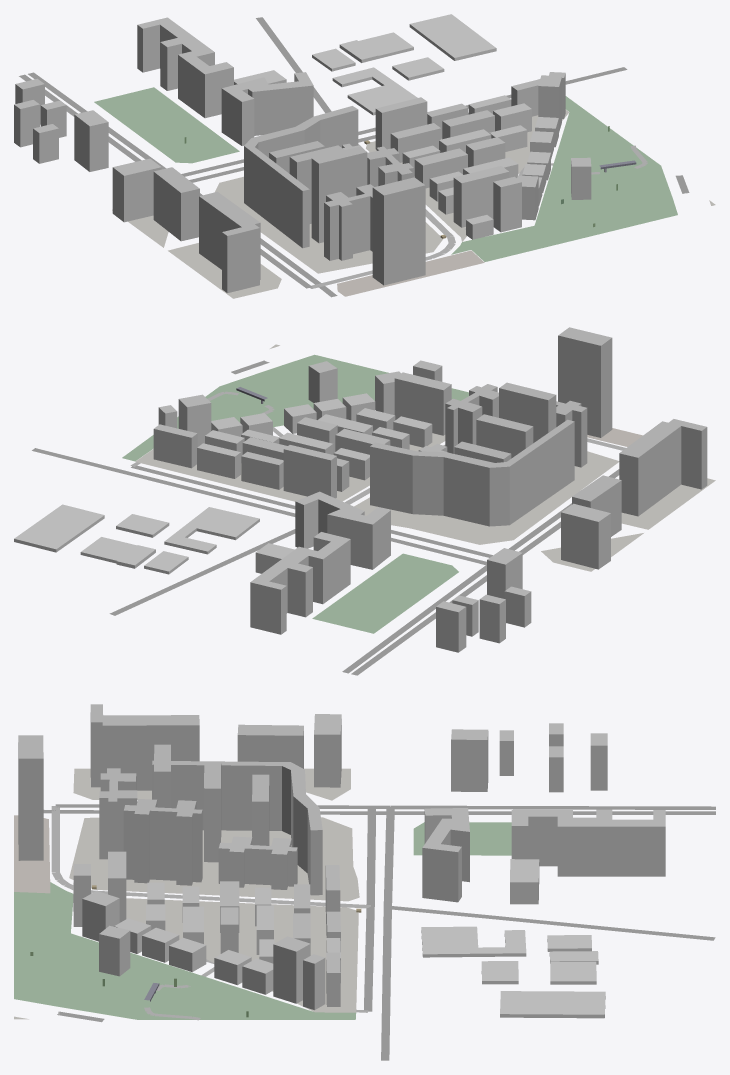
3 views of the same model, one above another, from view 1: azimuth 30°, elevation 25°; view 2: azimuth 150°, elevation 25°; view 3: azimuth 270°, elevation 25° (orthographic). The views are drawn at different scales.
Bounding box in the file's own units: 588 × 95.43 × 586.
